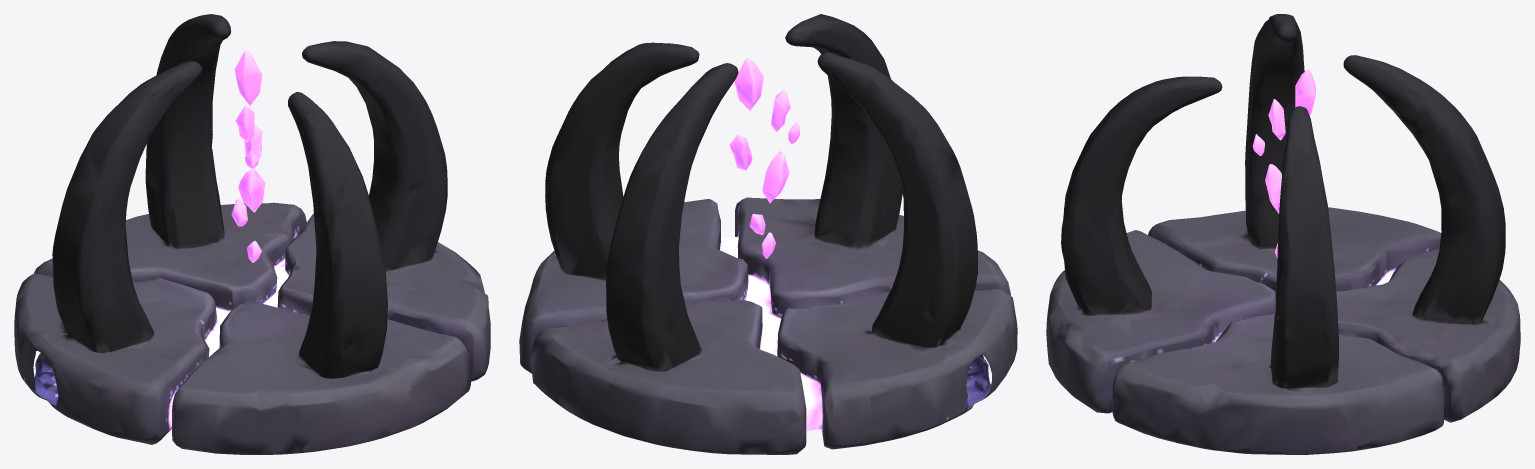
File: ev_breach-DsrL95ER.glb
The picture shows the model from 3 angles, left to right: view 1: azimuth 30°, elevation 25°; view 2: azimuth 150°, elevation 25°; view 3: azimuth 270°, elevation 25°; orthographic projection. The views are drawn at different scales.
Parts seen in each view (by area): view 1: tripo_node_6407970d-4ea3-467a-abab-f12bda928a5c; view 2: tripo_node_6407970d-4ea3-467a-abab-f12bda928a5c; view 3: tripo_node_6407970d-4ea3-467a-abab-f12bda928a5c.
Part boxes in pixels (x1=…): tripo_node_6407970d-4ea3-467a-abab-f12bda928a5c: x1=14, y1=14, x2=490, y2=454; tripo_node_6407970d-4ea3-467a-abab-f12bda928a5c: x1=519, y1=14, x2=1017, y2=454; tripo_node_6407970d-4ea3-467a-abab-f12bda928a5c: x1=1046, y1=14, x2=1520, y2=454.
Size of the model in its own units: 0.9955 by 0.7153 by 1.
Materials: 1 (1 with a texture image).
